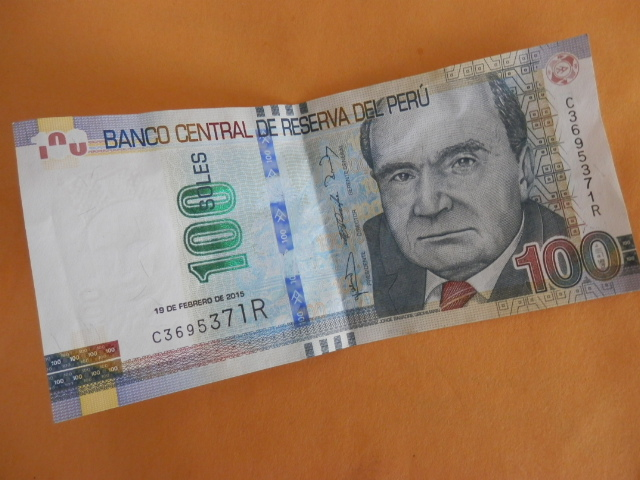B100: (13, 69, 637, 404)
